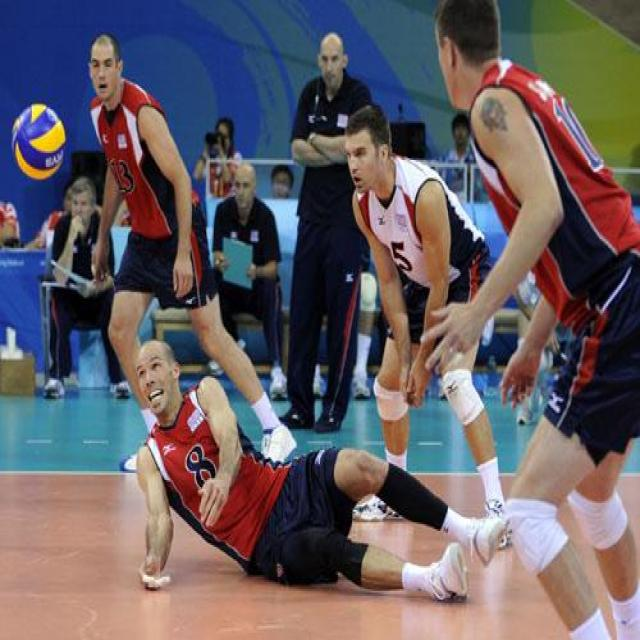10-: (31, 9, 614, 605)
down: (82, 322, 508, 608)
